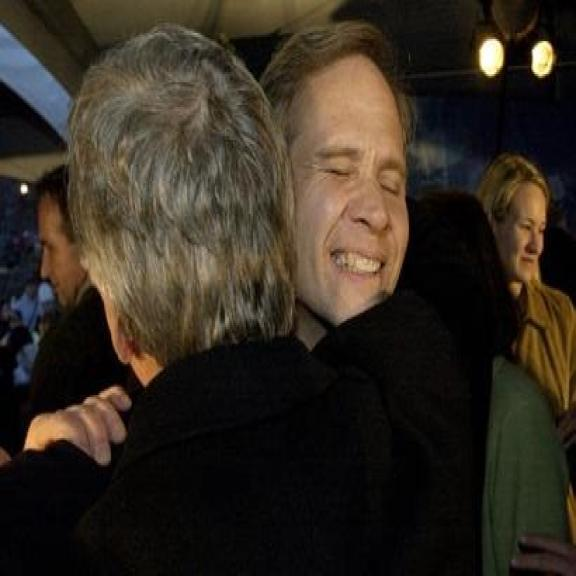face: (287, 62, 412, 338), (492, 167, 550, 287), (37, 187, 90, 303)
